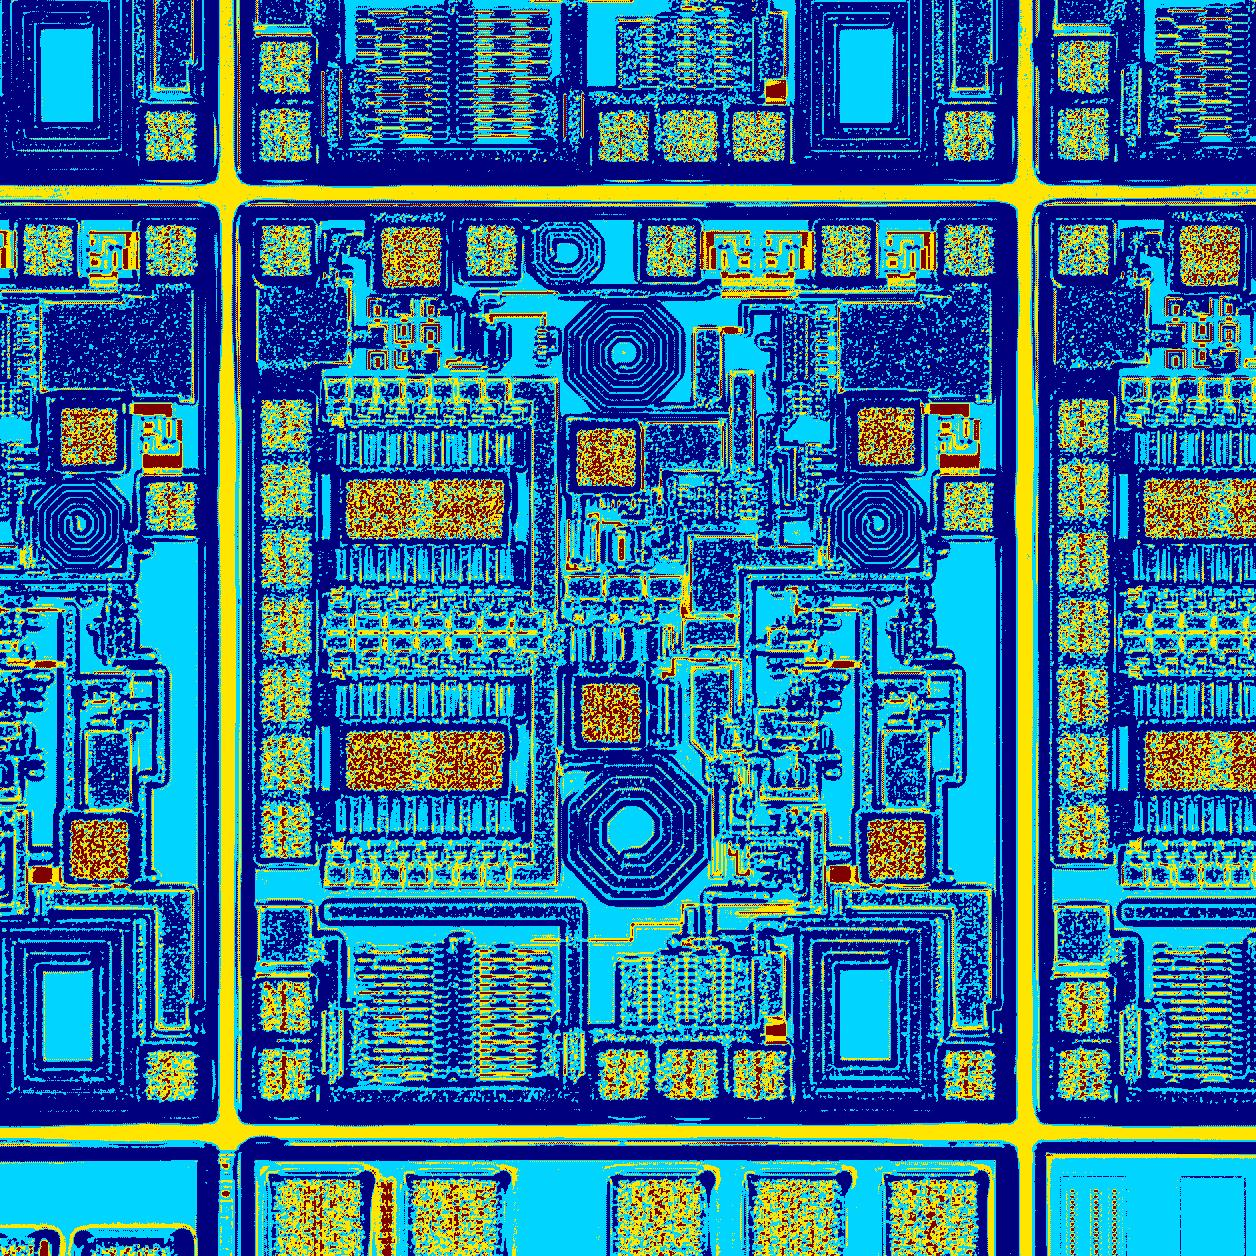Die: (235, 200, 1018, 1126)
Pad 1: (426, 729, 505, 790), (427, 478, 506, 538), (344, 729, 412, 791), (344, 478, 411, 538), (576, 426, 640, 488), (866, 818, 927, 880), (381, 227, 442, 288), (580, 683, 641, 742), (857, 406, 914, 466)
Pad 2: (260, 733, 312, 798), (260, 459, 312, 521), (260, 799, 313, 858), (261, 529, 312, 590), (260, 664, 312, 722), (262, 597, 311, 657), (663, 1049, 719, 1100), (260, 981, 312, 1033), (260, 1048, 311, 1101), (261, 400, 312, 452), (260, 225, 312, 276), (733, 1050, 786, 1100), (944, 1050, 995, 1100), (599, 1050, 650, 1100), (944, 225, 994, 276), (467, 225, 516, 276), (646, 225, 696, 276), (944, 482, 994, 531), (822, 225, 870, 276)
